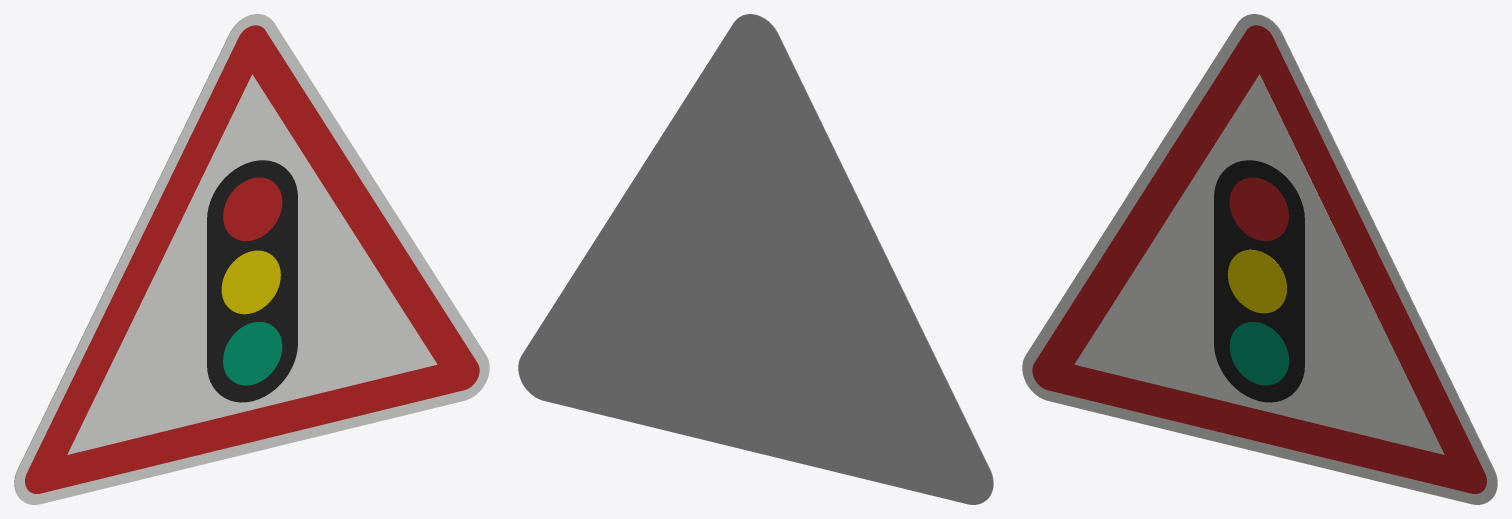
3 renders of one model, left to right at view 1: azimuth 30°, elevation 25°; view 2: azimuth 150°, elevation 25°; view 3: azimuth 330°, elevation 25°, orthographic.
Parts seen in each view (by area): view 1: A17_p02, A17_p01, A17_p00, A17_p03, A17_p06, A17_p05, A17_p04, A17_dos; view 2: A17_dos, A17_p00; view 3: A17_p02, A17_p01, A17_p00, A17_p03, A17_p05, A17_p06, A17_p04, A17_dos.
Boxes of the visible parts, <box> form: A17_p02: <box>67,74,437,454</box>; A17_p01: <box>25,25,479,493</box>; A17_p00: <box>14,14,489,504</box>; A17_p03: <box>207,160,297,402</box>; A17_p06: <box>221,250,280,314</box>; A17_p05: <box>223,177,282,240</box>; A17_p04: <box>223,322,282,385</box>; A17_dos: <box>14,14,265,500</box>; A17_dos: <box>518,14,993,504</box>; A17_p00: <box>742,14,993,500</box>; A17_p02: <box>1074,74,1444,454</box>; A17_p01: <box>1032,25,1486,493</box>; A17_p00: <box>1022,14,1497,504</box>; A17_p03: <box>1214,160,1304,402</box>; A17_p05: <box>1229,177,1288,240</box>; A17_p06: <box>1227,249,1286,313</box>; A17_p04: <box>1229,322,1288,385</box>; A17_dos: <box>1246,14,1497,500</box>.
Bounding box in the file's own units: 1 × 0.8803 × 0.0043.
